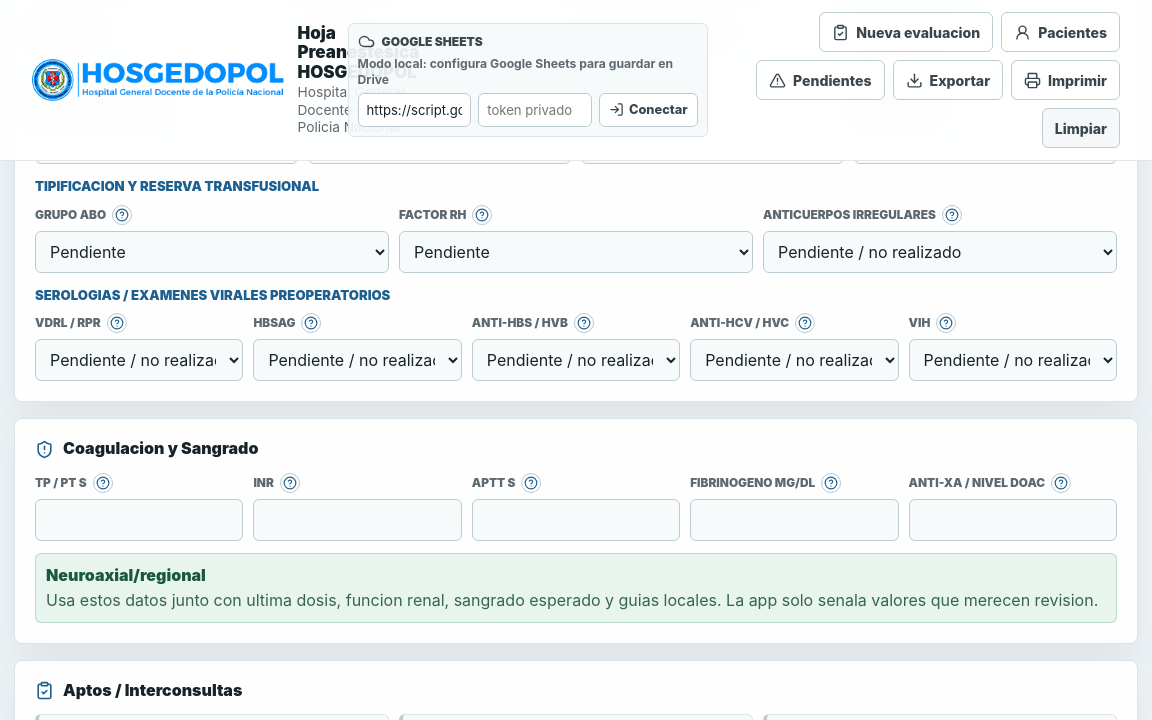
Test: App › recommends follow-up for reactive viral screening
The width and height of the screenshot is (1152, 720).
(page scrolled)
Select "Reactivo" in the dropdown named "HBsAg" at (358, 360), box [253, 340, 462, 382]
(page scrolled)
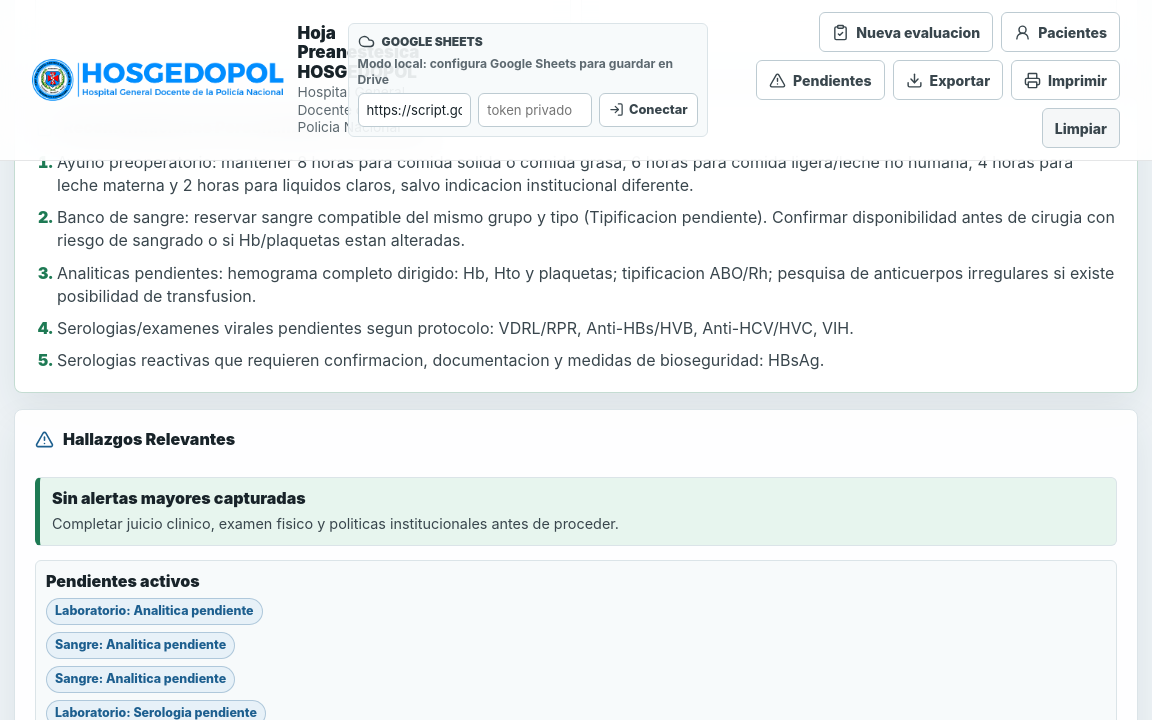
Result: the list item "Serologias reactivas" shows "HBsAg" at [57, 350, 824, 370]
